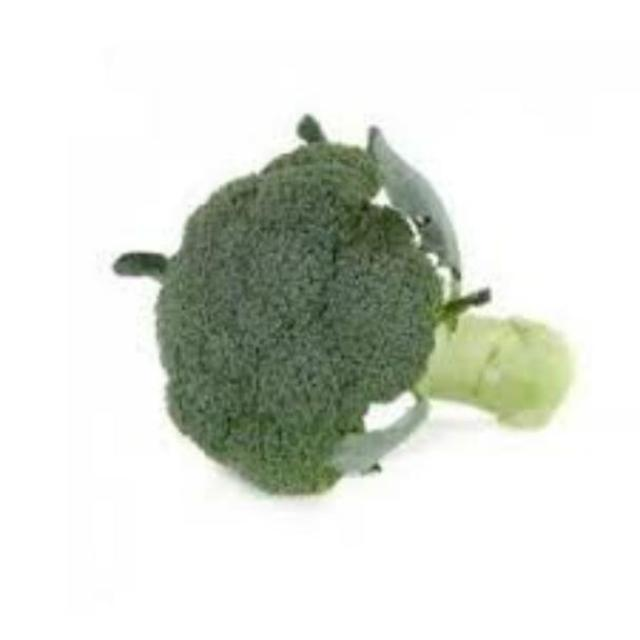Broccoli: (120, 106, 602, 488)
